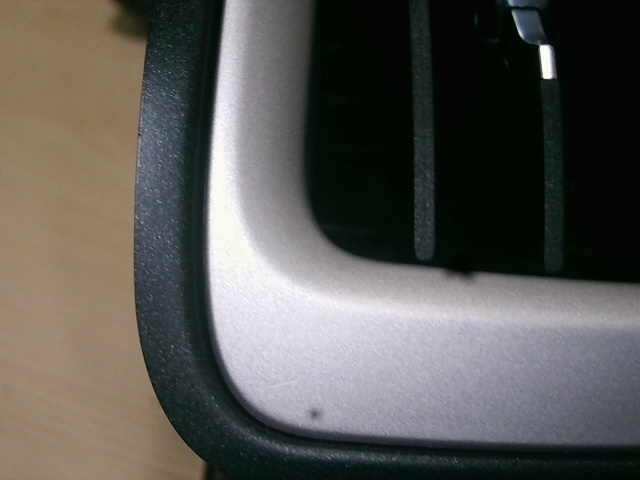NG: (267, 373, 304, 398)
